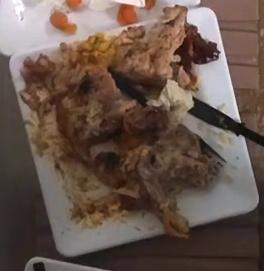carrots: (50, 0, 156, 34)
chicken: (19, 19, 216, 233)
